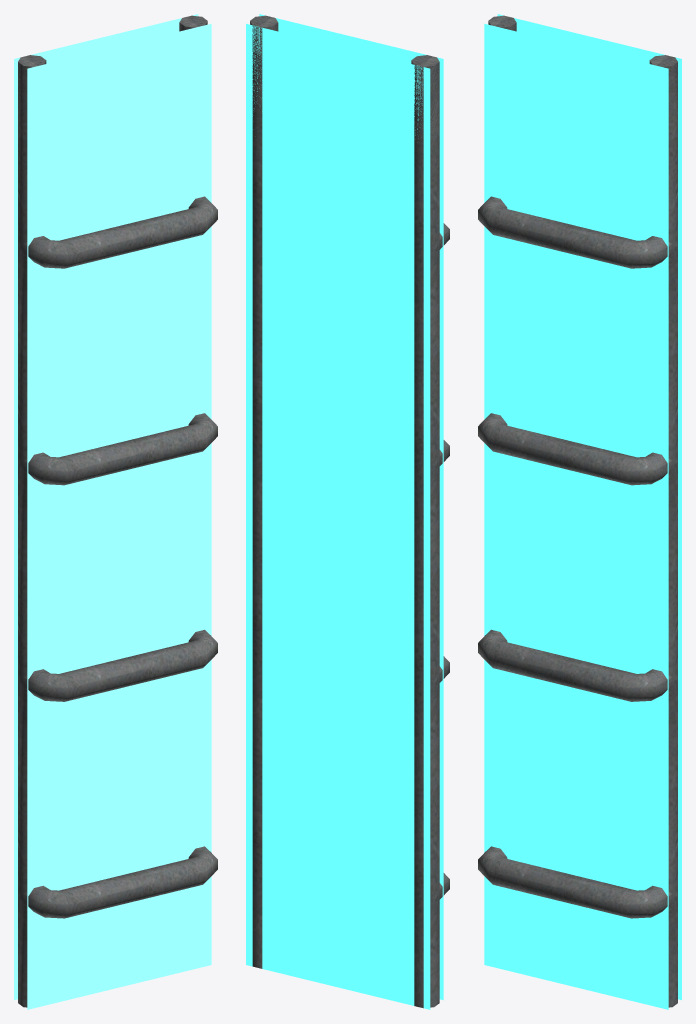
Rendered from vt49_ladder_l0.fbx.
3 renders of one model, left to right at view 1: azimuth 30°, elevation 25°; view 2: azimuth 150°, elevation 25°; view 3: azimuth 330°, elevation 25°, orthographic.
Parts seen in each view (by area): view 1: mesh_node; view 2: mesh_node; view 3: mesh_node.
Part boxes in pixels (bbox=[...]): mesh_node: bbox=[14, 14, 217, 1009]; mesh_node: bbox=[246, 14, 449, 1009]; mesh_node: bbox=[478, 14, 681, 1009].
Size of the model in its own units: 0.5345 by 2.61 by 0.1578.
